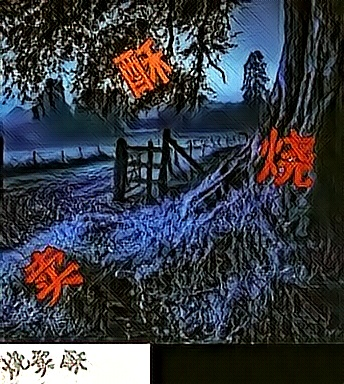C2F4: (22, 242, 84, 306)
C9D5: (253, 126, 315, 190)
CBD6: (111, 37, 173, 101)
